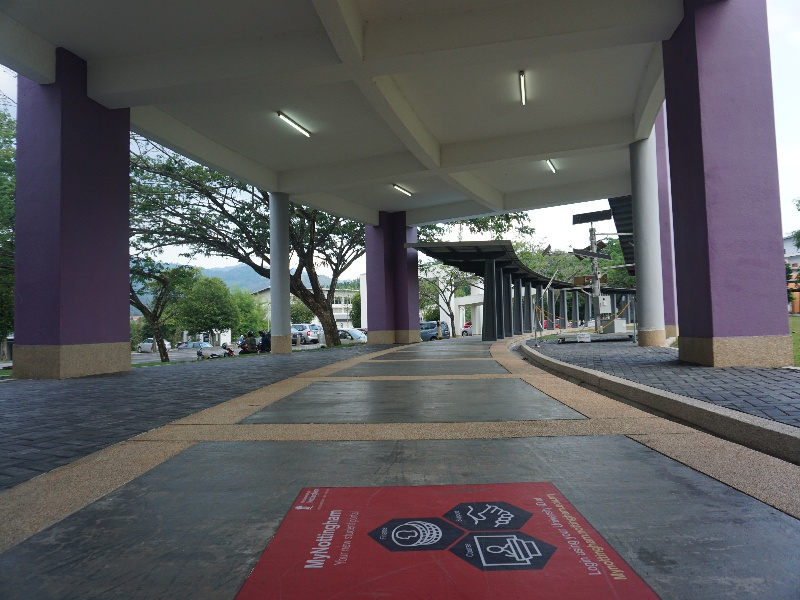Block D Pillar 4: (1, 6, 797, 443)
pillar: (1, 49, 150, 384), (667, 16, 795, 374), (353, 201, 428, 350), (626, 119, 674, 348), (255, 183, 304, 364)
